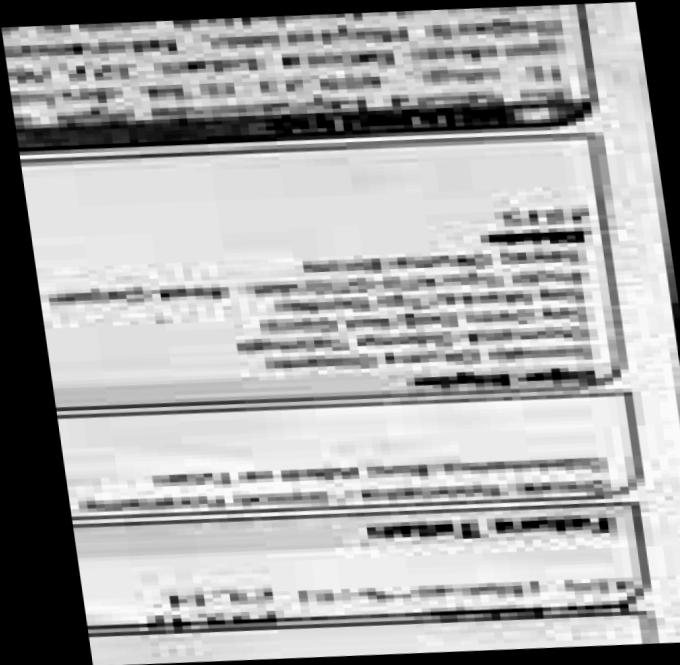electricity-bill: (0, 1, 680, 665)
